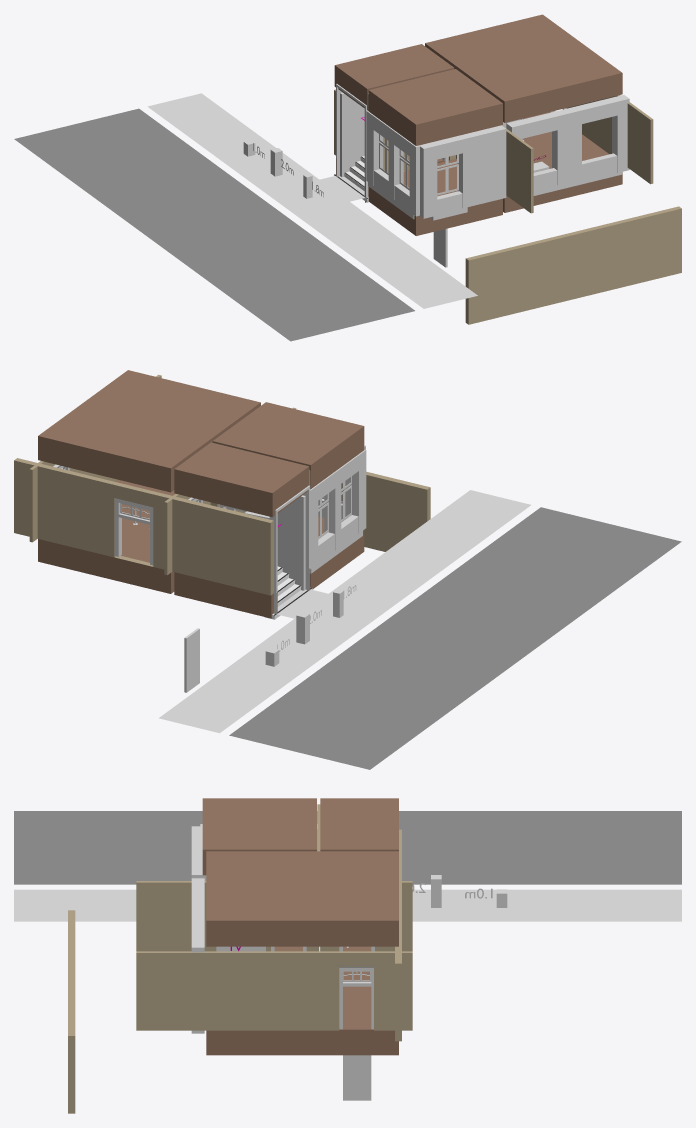
File: museu fundation60.fbx
3 renders of one model, top to bottom at view 1: azimuth 30°, elevation 25°; view 2: azimuth 150°, elevation 25°; view 3: azimuth 270°, elevation 25°, orthographic. The views are drawn at different scales.
Visible parts, largest first — view 1: road, wall03, sidewalk, chesthall.001, signhall.001, Cube.038, Cube.040, entrancehall.001, Cube.023, signhall, wall01.003, chesthall (+9 smaller); view 2: road, sidewalk, wall01.001, chesthall.001, entrancehall.001, signhall.001, chesthall, wall03, Cube.023, entrancehall, Cube.051, doorframe.003 (+8 smaller); view 3: road, wall01.003, chesthall.001, sidewalk, chesthall, signhall.001, wall01.002, entrancehall.001, wall03, basedroosize, Cube.040, wall01.001 (+1 smaller).
Boxes of the visible parts, bbox=[...] form: road: bbox=[14, 108, 414, 341]; wall03: bbox=[465, 206, 681, 324]; sidewalk: bbox=[147, 93, 477, 308]; chesthall.001: bbox=[425, 14, 622, 122]; signhall.001: bbox=[368, 69, 502, 145]; Cube.038: bbox=[420, 125, 506, 218]; Cube.040: bbox=[506, 95, 629, 185]; entrancehall.001: bbox=[334, 44, 454, 110]; Cube.023: bbox=[366, 110, 425, 216]; signhall: bbox=[368, 159, 502, 235]; wall01.003: bbox=[566, 95, 653, 184]; chesthall: bbox=[503, 112, 622, 212]; road: bbox=[229, 507, 681, 769]; sidewalk: bbox=[159, 490, 530, 733]; wall01.001: bbox=[14, 458, 273, 595]; chesthall.001: bbox=[38, 370, 260, 492]; entrancehall.001: bbox=[174, 442, 309, 517]; signhall.001: bbox=[212, 402, 364, 489]; chesthall: bbox=[38, 480, 226, 593]; wall03: bbox=[324, 471, 430, 551]; Cube.023: bbox=[310, 449, 366, 569]; entrancehall: bbox=[174, 572, 273, 618]; Cube.051: bbox=[277, 495, 305, 590]; doorframe.003: bbox=[269, 485, 310, 613]; road: bbox=[14, 811, 681, 884]; wall01.003: bbox=[136, 951, 412, 1030]; chesthall.001: bbox=[206, 851, 398, 946]; sidewalk: bbox=[14, 889, 681, 921]; chesthall: bbox=[206, 971, 398, 1055]; signhall.001: bbox=[202, 798, 316, 875]; wall01.002: bbox=[136, 881, 412, 951]; entrancehall.001: bbox=[320, 798, 398, 851]; wall03: bbox=[68, 910, 75, 1113]; basedroosize: bbox=[343, 1055, 371, 1100]; Cube.040: bbox=[191, 878, 204, 1033]; wall01.001: bbox=[395, 829, 401, 1041].
Bounding box in the file's own units: 3792 × 1736 × 4209.
